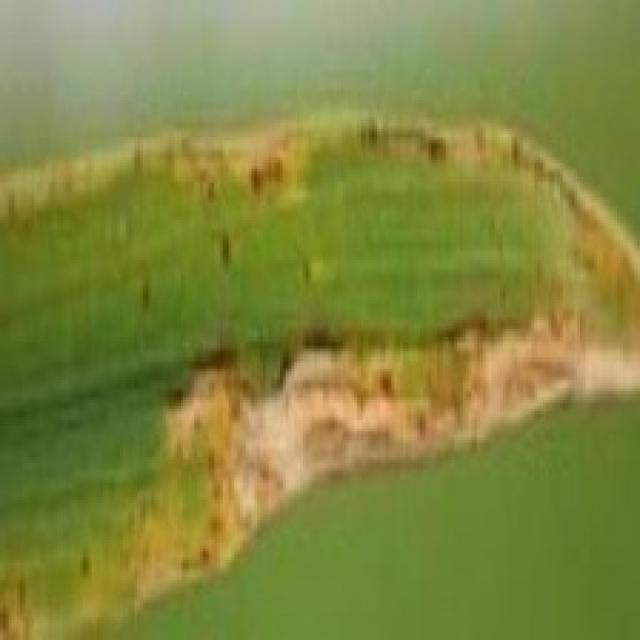Rice___Bacterial_Leaf_Blight: (0, 107, 637, 637)
